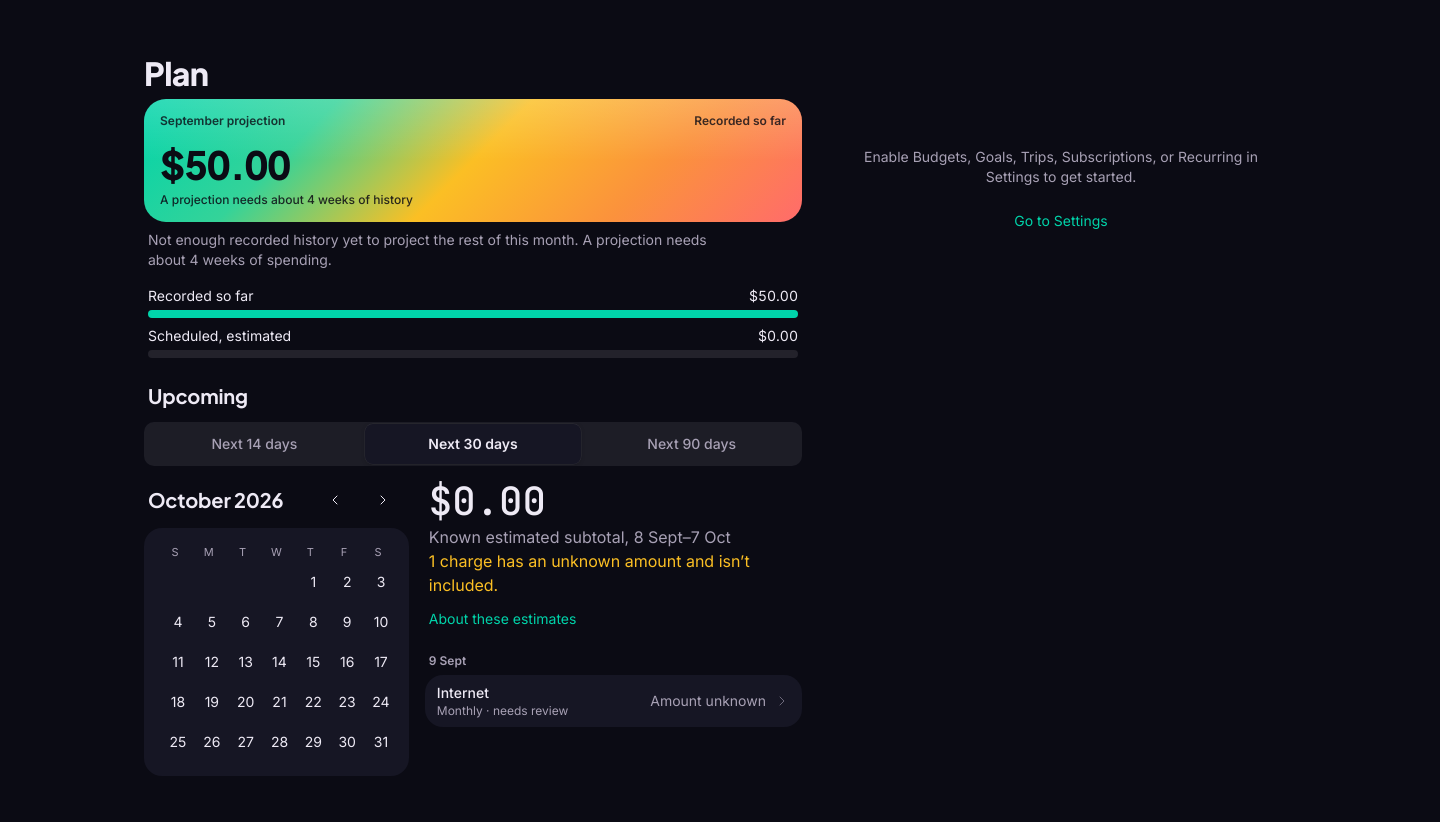
Test case: shows recurring_suggestion provenance separately from estimated charges
Click the button "Internet Monthly · needs review Amount unknown". click: [463, 692]
box: [425,675,802,727]
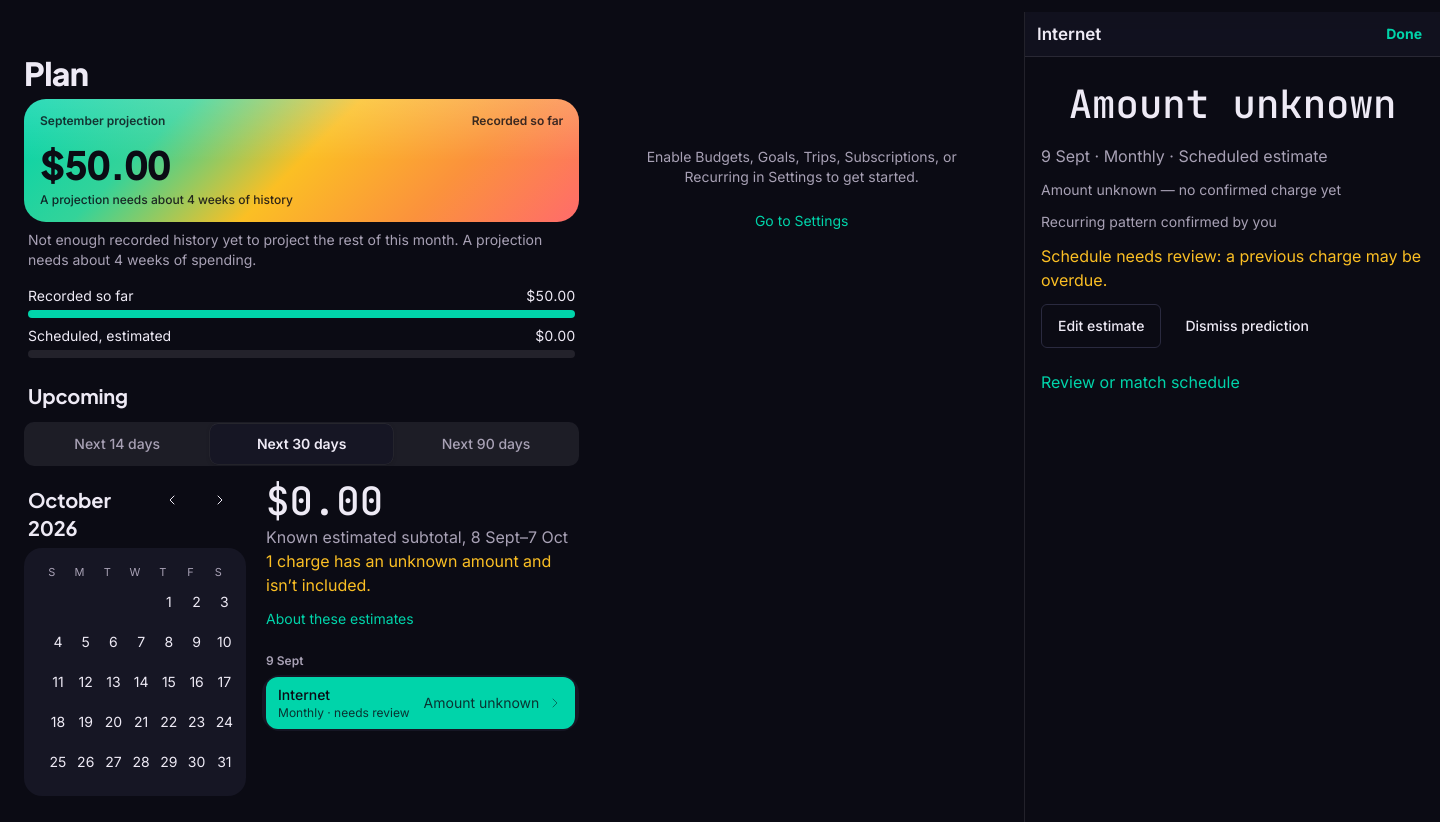
Expected: the text "Recurring pattern confirmed by you" is shown, [1041,213,1277,230]
